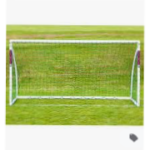goals: (7, 37, 142, 110)
